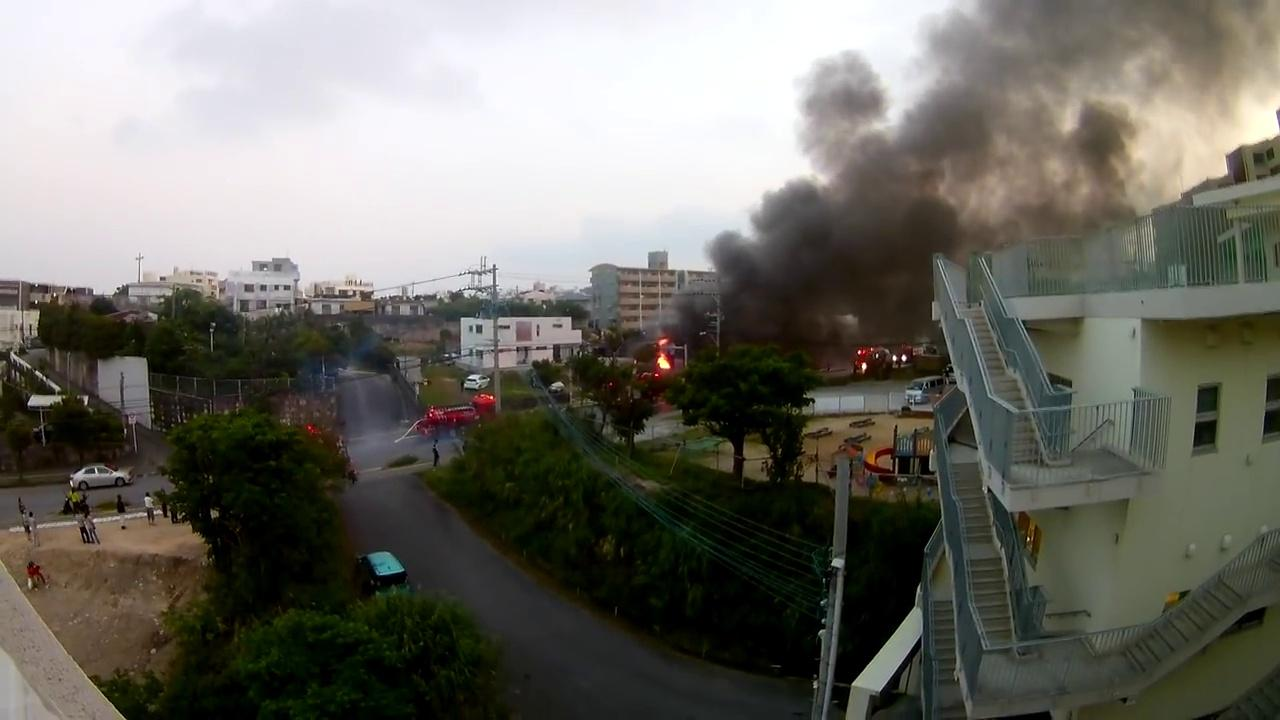fire: (654, 338, 675, 369)
